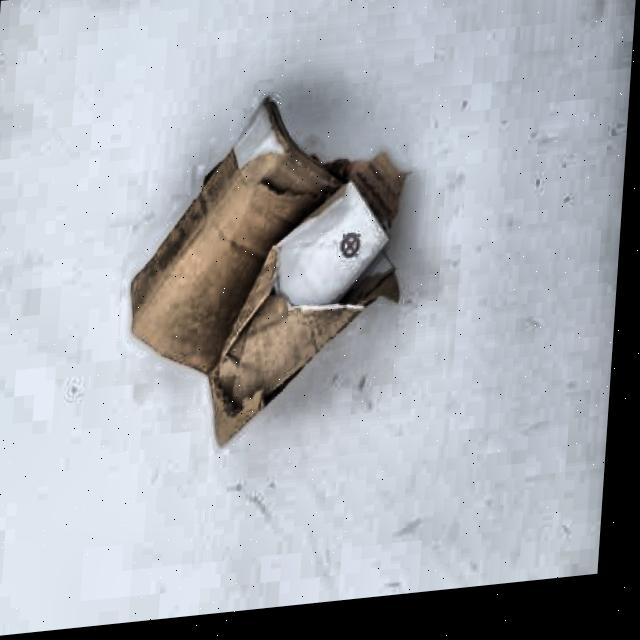cardboard: (115, 80, 419, 463)
